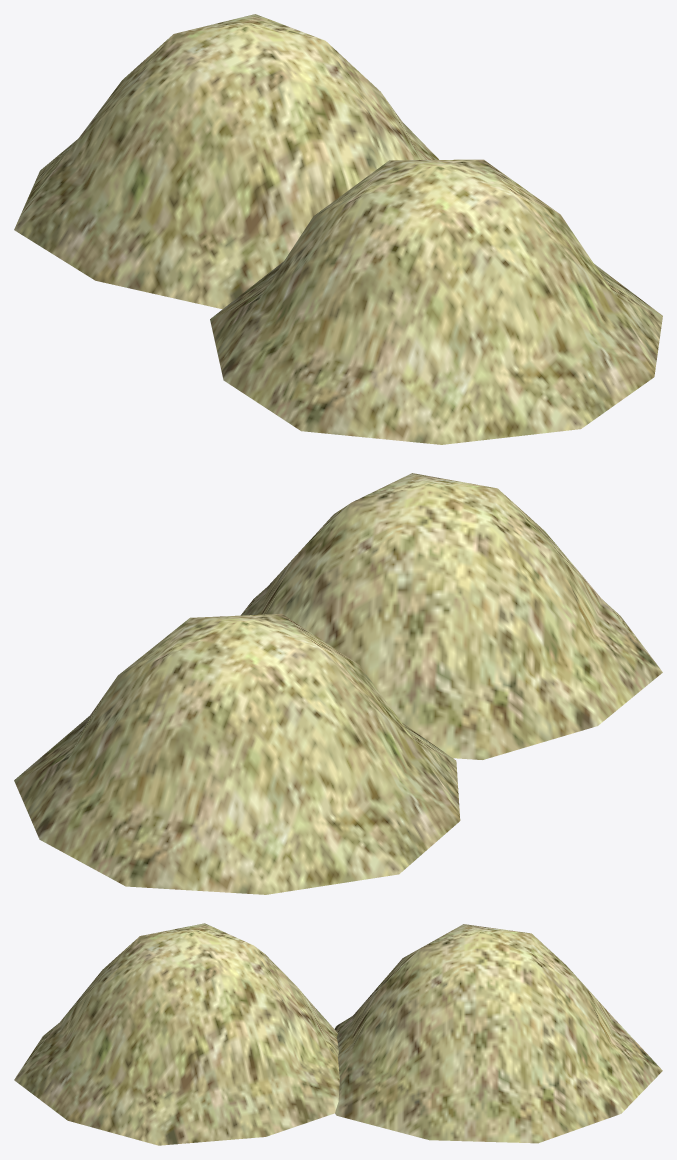
Rendered from iber_farmstead_hay.dae.
3 views of the same model, one above another, from view 1: azimuth 30°, elevation 25°; view 2: azimuth 150°, elevation 25°; view 3: azimuth 270°, elevation 25° (orthographic). The views are drawn at different scales.
Visible parts, largest first — view 1: hay; view 2: hay; view 3: hay.
Boxes of the visible parts, bbox=[...] form: hay: bbox=[14, 14, 662, 444]; hay: bbox=[14, 473, 662, 894]; hay: bbox=[14, 923, 662, 1145].
Size of the model in its own units: 5.61 by 10.43 by 2.45.
